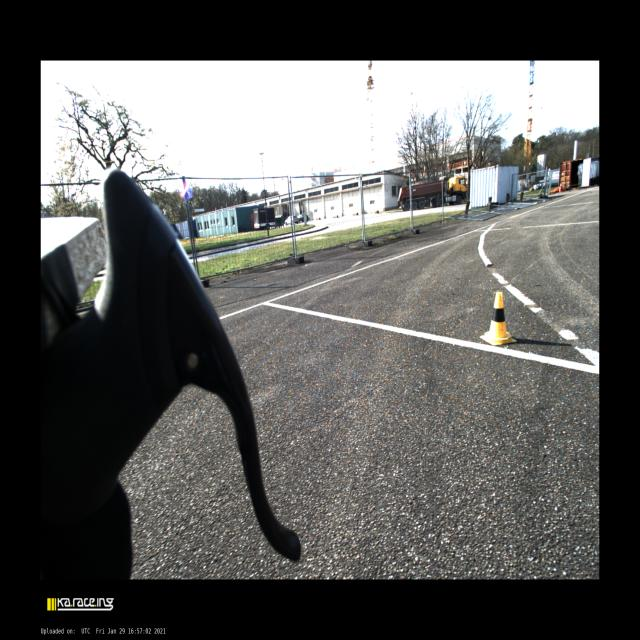orange_cone: (559, 183, 562, 188)
yellow_cone: (480, 292, 516, 345)
